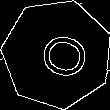O_W: (26, 25, 88, 82)
